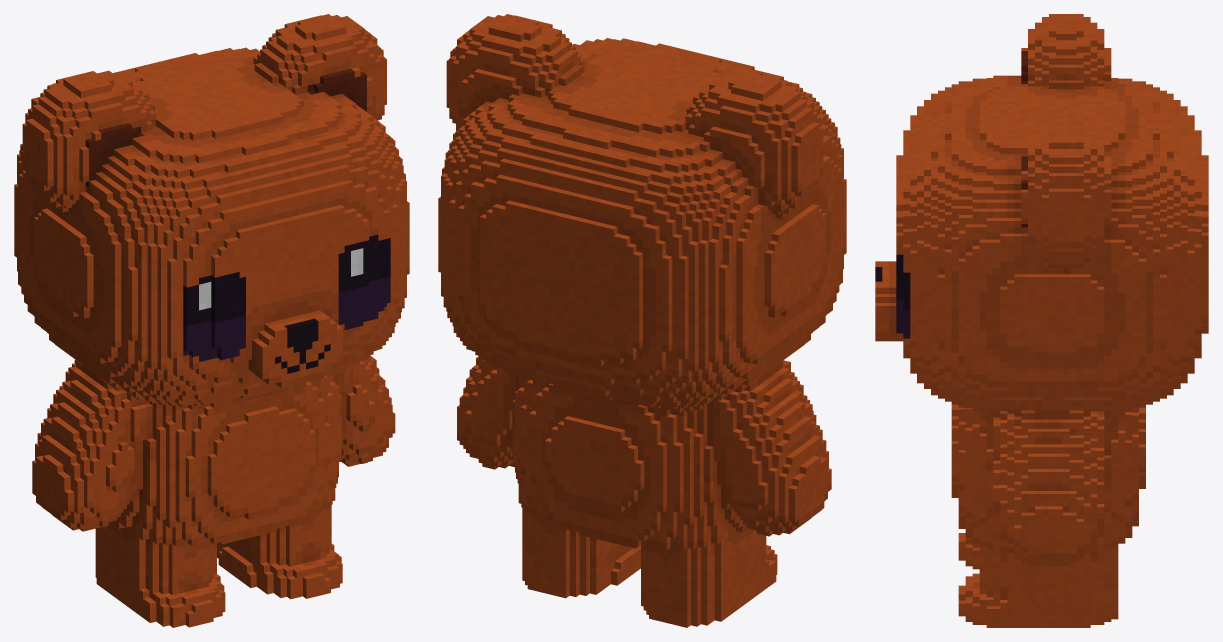
3 renders of one model, left to right at view 1: azimuth 30°, elevation 25°; view 2: azimuth 150°, elevation 25°; view 3: azimuth 270°, elevation 25°, orthographic. The views are drawn at different scales.
Visible parts, largest first — view 1: Browraiz; view 2: Browraiz; view 3: Browraiz.
Part boxes in pixels (box(x1,y1,x2,y2)): Browraiz: box(14, 14, 409, 627); Browraiz: box(438, 14, 846, 627); Browraiz: box(875, 14, 1208, 627).
Bounding box in the file's own units: 1.1 × 1.6 × 0.96.
